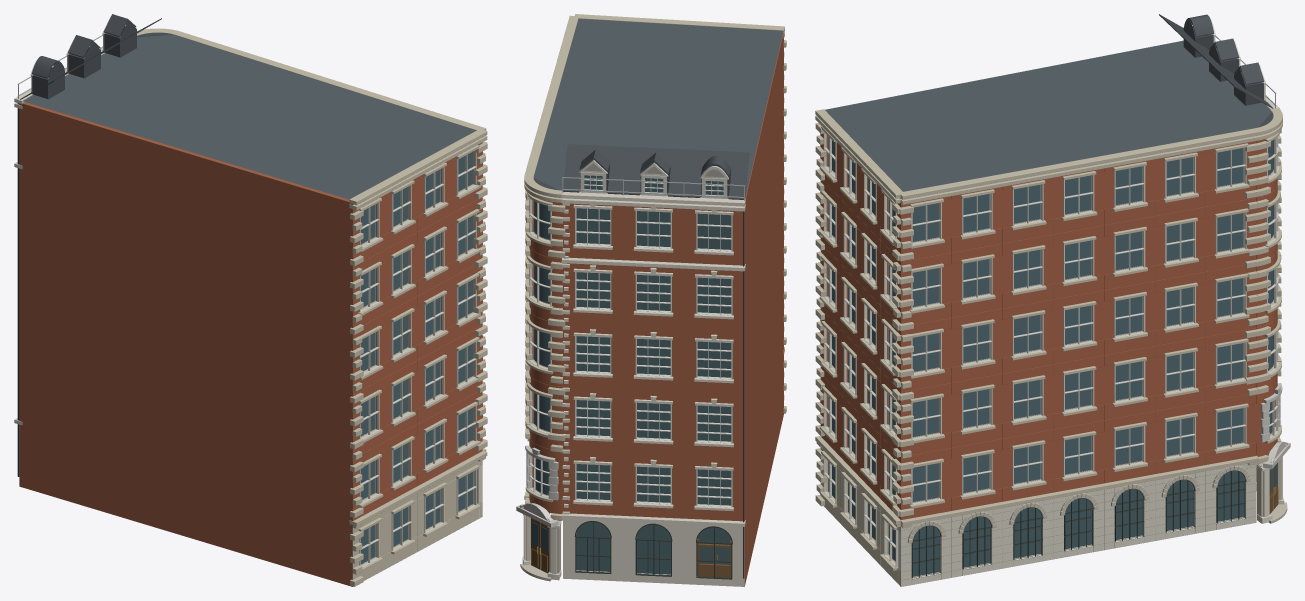
Rendered from 51l-exterior-3ada32cd9fe8.glb.
3 renders of one model, left to right at view 1: azimuth 30°, elevation 25°; view 2: azimuth 150°, elevation 25°; view 3: azimuth 270°, elevation 25°, orthographic.
Visible parts, largest first — view 1: 51L.001; view 2: 51L.001; view 3: 51L.001.
Boxes of the visible parts, left/top/right/bottom form: 51L.001: left=14, top=14, right=487, bottom=586; 51L.001: left=516, top=14, right=786, bottom=586; 51L.001: left=815, top=14, right=1290, bottom=586.
Bounding box in the file's own units: 18.34 × 22.82 × 22.96.
